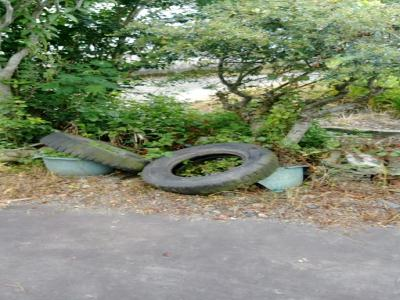tire: (138, 140, 283, 196)
